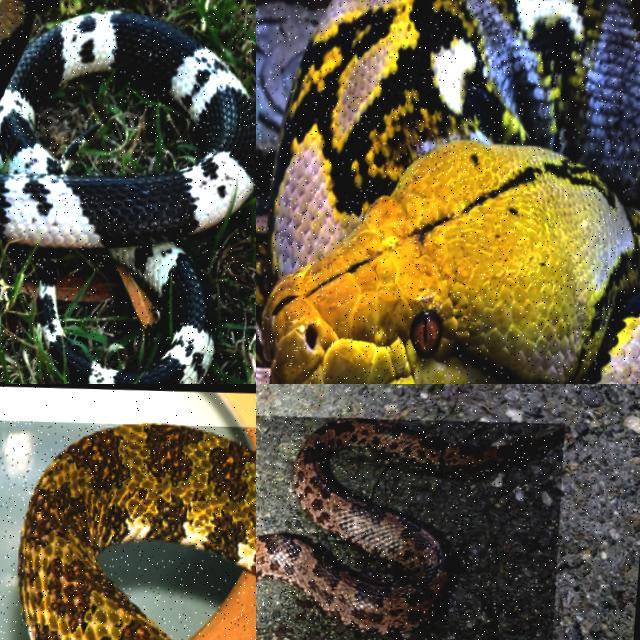Malayopython reticulatus: (256, 0, 639, 383)
Naja siamensis: (0, 0, 255, 383)
Ovophis monticola: (256, 419, 564, 635), (19, 425, 255, 639)
